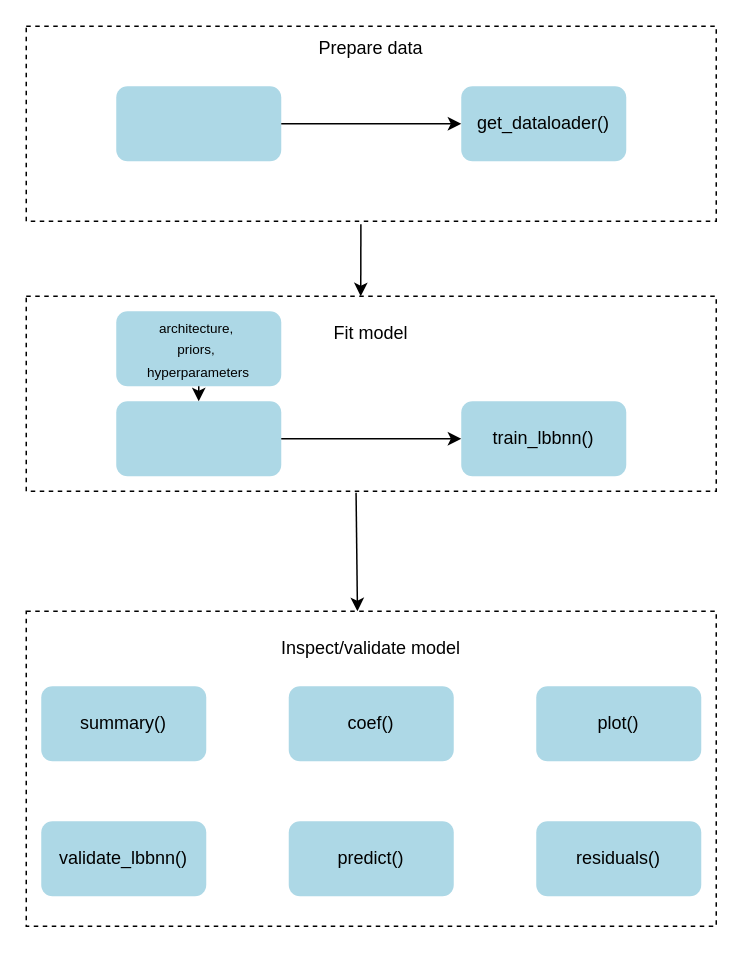
The diagram is 743 pixels wide and 965 high, and some of its shapes have lost their labels. The shapes that lost their labels are listed below. From the top down, each one's centre as x and y in pixels, then its label:
the point at 198,123: data
the point at 198,438: lbbnn_net
